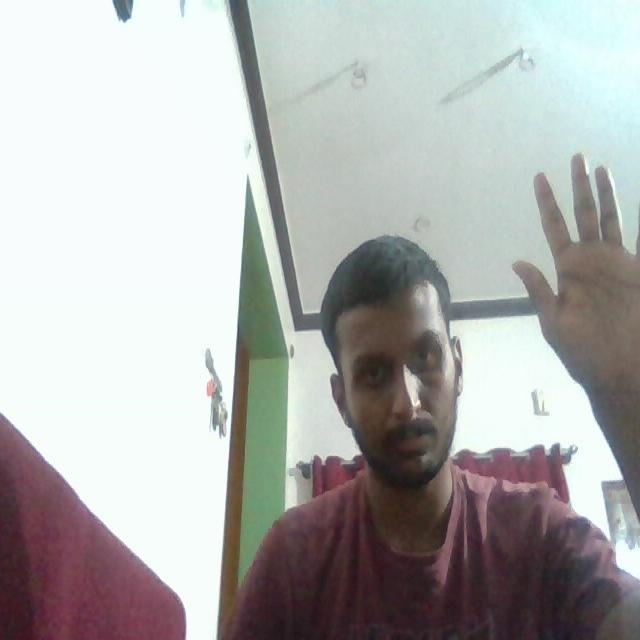hello-yes-no-iloveyou-please: (508, 134, 640, 387)
